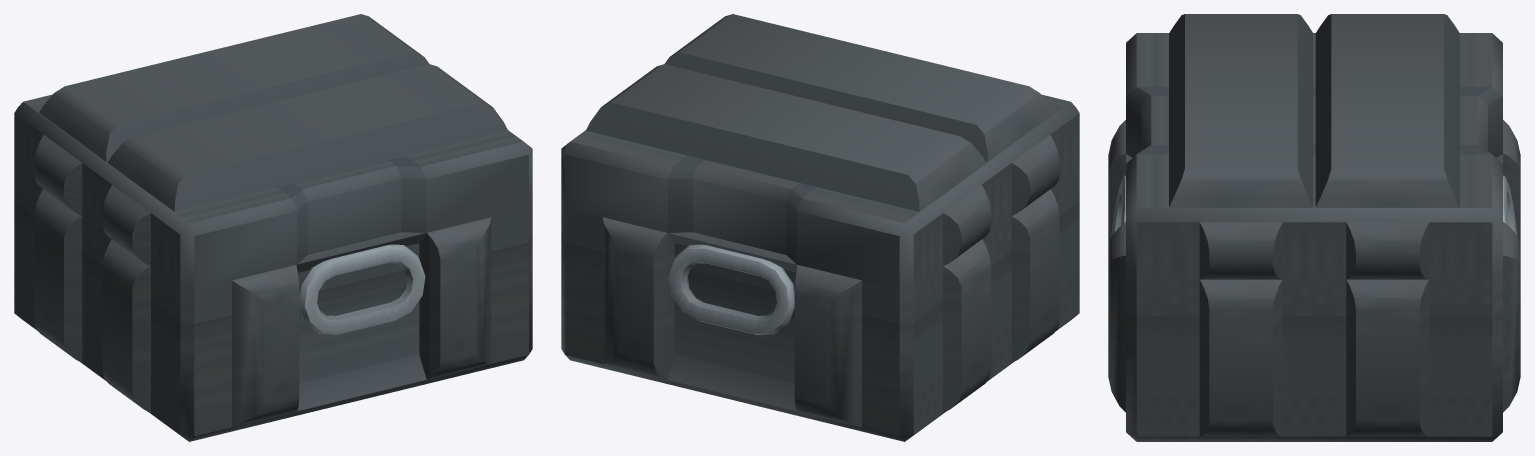
File: Containers_Crate_Small_Grey.gltf
3 renders of one model, left to right at view 1: azimuth 30°, elevation 25°; view 2: azimuth 150°, elevation 25°; view 3: azimuth 270°, elevation 25°, orthographic. The views are drawn at different scales.
Visible parts, largest first — view 1: Containers_Crate_Small_Grey; view 2: Containers_Crate_Small_Grey; view 3: Containers_Crate_Small_Grey.
Boxes of the visible parts, x1,y1,x2,y2 form: Containers_Crate_Small_Grey: (14,14,532,441); Containers_Crate_Small_Grey: (561,14,1079,441); Containers_Crate_Small_Grey: (1108,14,1520,441).
Bounding box in the file's own units: 0.81 × 0.5003 × 0.71.
Materials: 1 (1 with a texture image).
